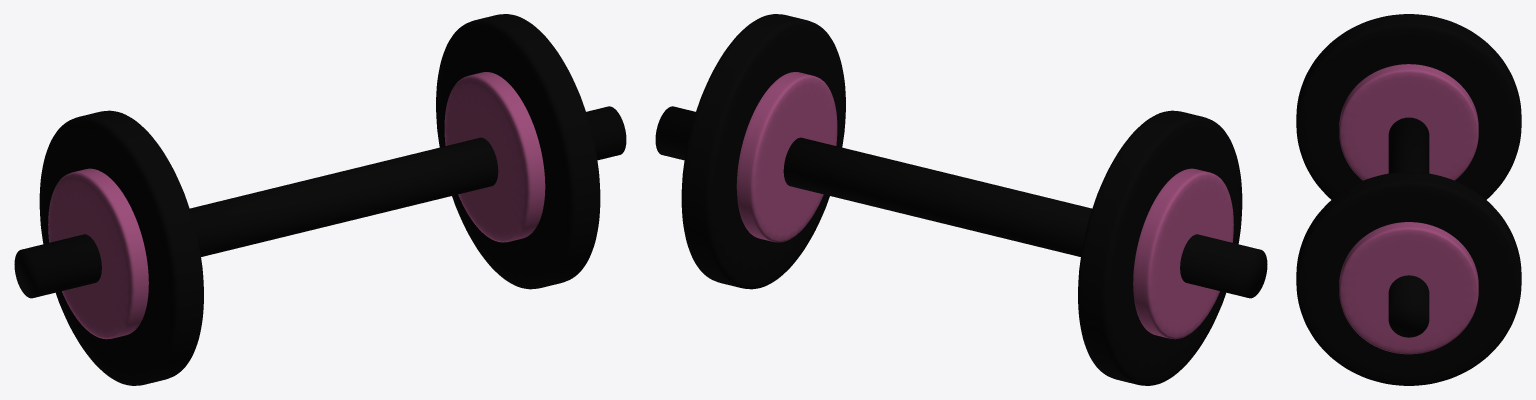
File: pesa_rosa.glb
The picture shows the model from 3 angles, left to right: view 1: azimuth 30°, elevation 25°; view 2: azimuth 150°, elevation 25°; view 3: azimuth 270°, elevation 25°; orthographic projection. The views are drawn at different scales.
Parts seen in each view (by area): view 1: Circle.006, Circle.009, Cylinder.001, Circle.010, Circle.007; view 2: Circle.006, Circle.009, Cylinder.001, Circle.010, Circle.007; view 3: Circle.009, Circle.006, Circle.011, Circle.008, Cylinder.001.
Part boxes in pixels (x1=…): Circle.006: x1=39, y1=110, x2=203, y2=385; Circle.009: x1=436, y1=14, x2=600, y2=289; Cylinder.001: x1=14, y1=106, x2=626, y2=298; Circle.010: x1=444, y1=72, x2=545, y2=242; Circle.007: x1=48, y1=168, x2=148, y2=339; Circle.006: x1=1078, y1=110, x2=1242, y2=385; Circle.009: x1=681, y1=14, x2=845, y2=289; Cylinder.001: x1=655, y1=106, x2=1267, y2=298; Circle.010: x1=736, y1=72, x2=837, y2=242; Circle.007: x1=1133, y1=168, x2=1233, y2=339; Circle.009: x1=1296, y1=172, x2=1521, y2=385; Circle.006: x1=1296, y1=14, x2=1521, y2=199; Circle.011: x1=1339, y1=222, x2=1478, y2=354; Circle.008: x1=1339, y1=64, x2=1478, y2=180; Cylinder.001: x1=1388, y1=117, x2=1429, y2=337.
Bounding box in the file's own units: 8.13 × 3.31 × 3.31.
